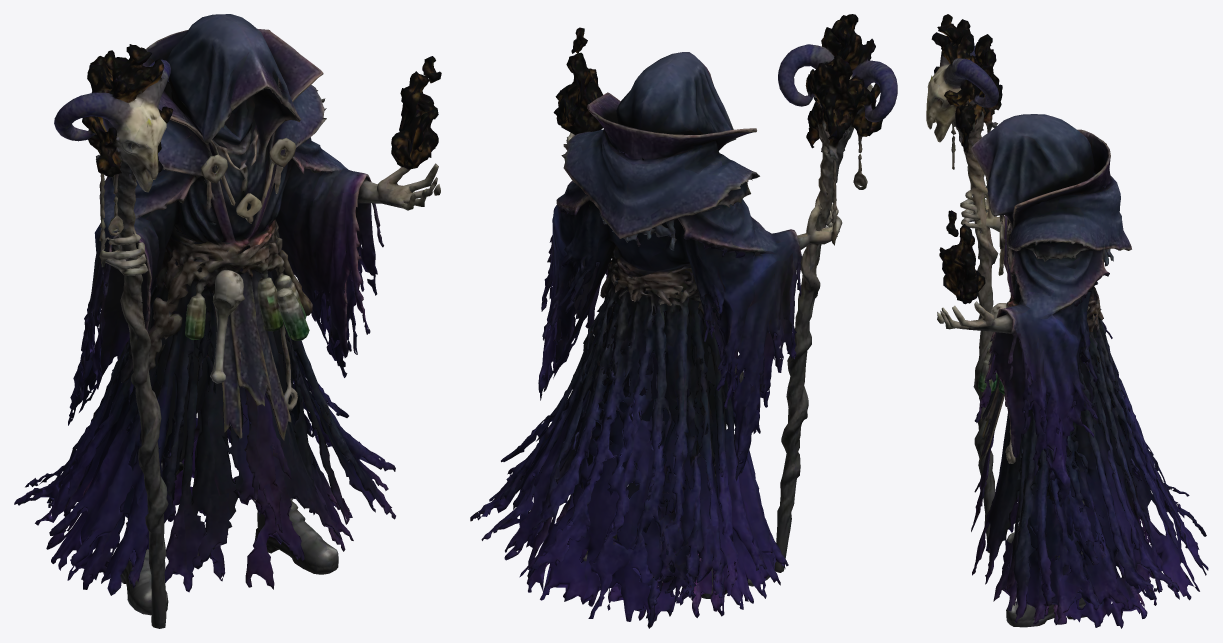
Rendered from колдун.glb.
The picture shows the model from 3 angles, left to right: view 1: azimuth 30°, elevation 25°; view 2: azimuth 150°, elevation 25°; view 3: azimuth 270°, elevation 25°; orthographic projection. The views are drawn at different scales.
Parts seen in each view (by area): view 1: geometry_0; view 2: geometry_0; view 3: geometry_0.
Part boxes in pixels (x1,y1,x2,y2): geometry_0: [14, 14, 441, 628]; geometry_0: [470, 14, 897, 628]; geometry_0: [926, 14, 1208, 628].
Bounding box in the file's own units: 0.6562 × 1 × 0.4963.
1 material, 1 textured.
